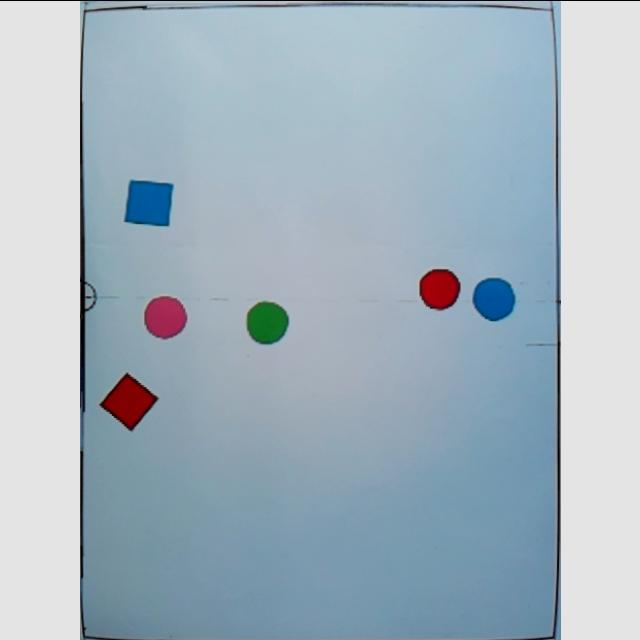blueCircle: (470, 276, 516, 322)
blueSquare: (122, 179, 174, 227)
greenCircle: (244, 300, 290, 344)
pinkCircle: (142, 295, 186, 339)
redCircle: (416, 266, 460, 310)
redSquare: (96, 371, 160, 431)
